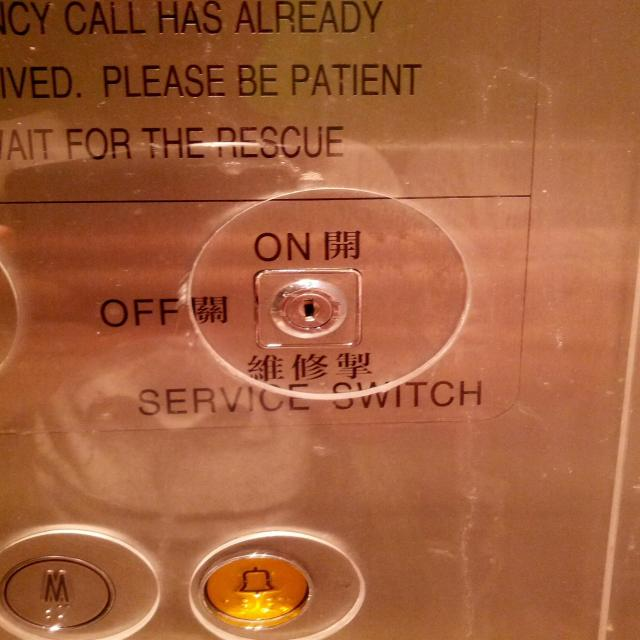M: (0, 554, 115, 631)
alarm: (195, 548, 315, 626)
bt_keyhole: (248, 259, 362, 356)
